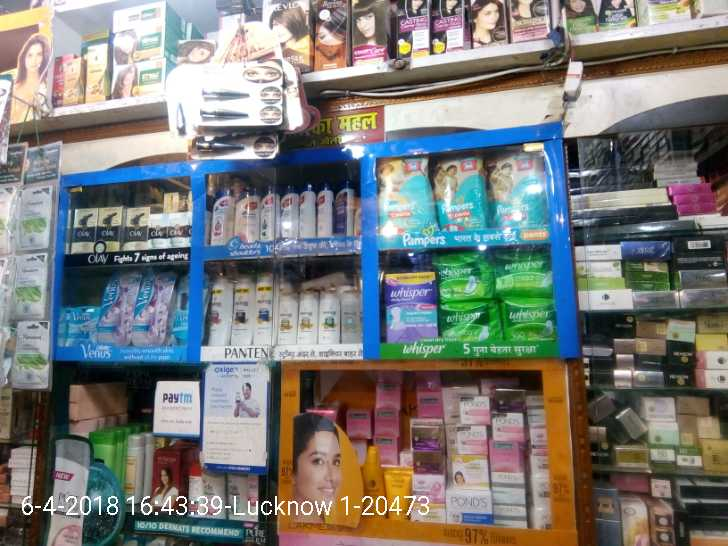venus: (101, 276, 138, 349), (138, 276, 171, 344), (59, 306, 100, 349), (171, 275, 191, 344)
